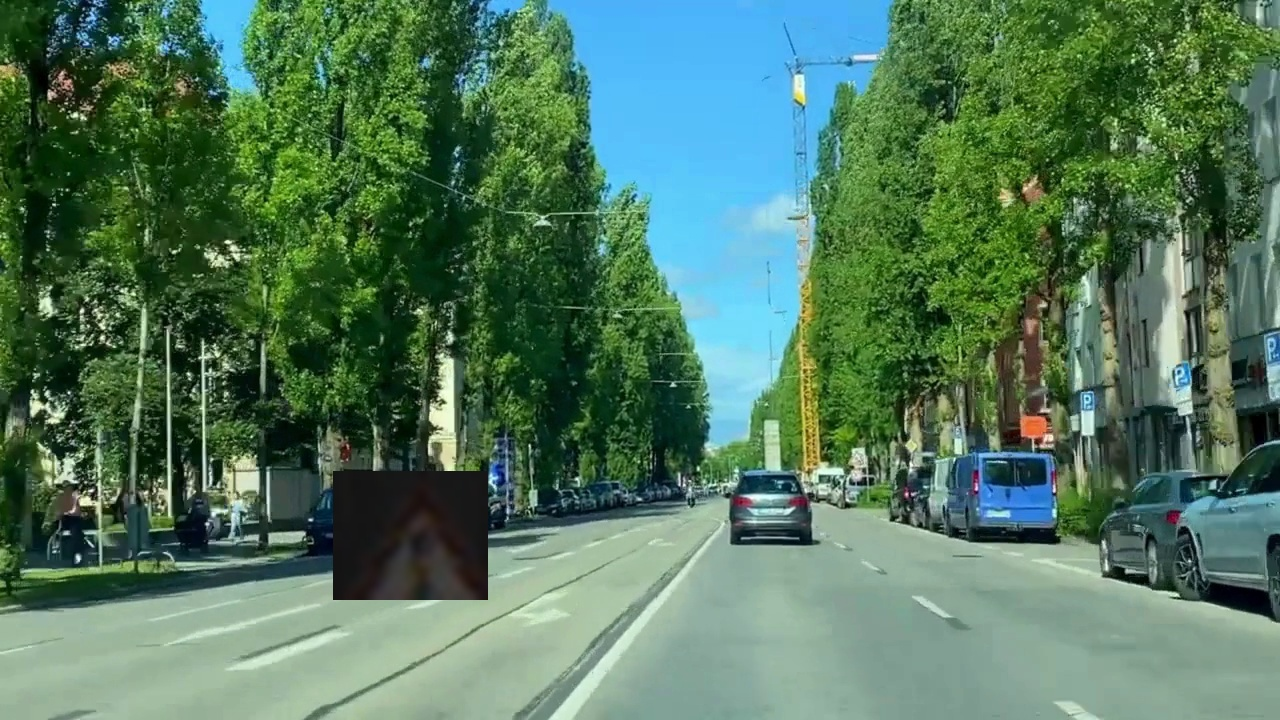Signals: (333, 471, 488, 600)
